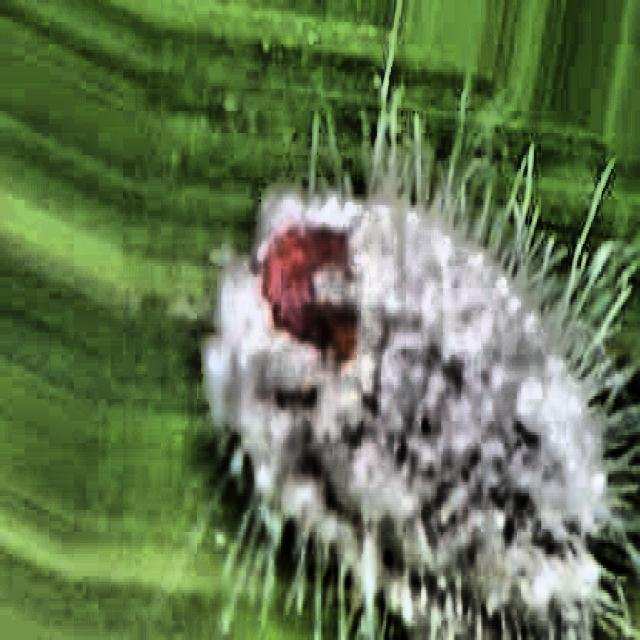Mealy-bug: (186, 114, 640, 637)
